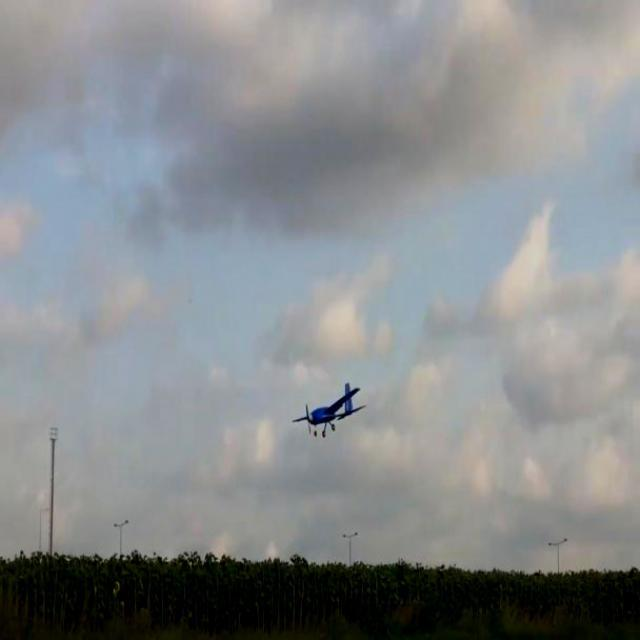iha: (310, 410, 334, 416)
